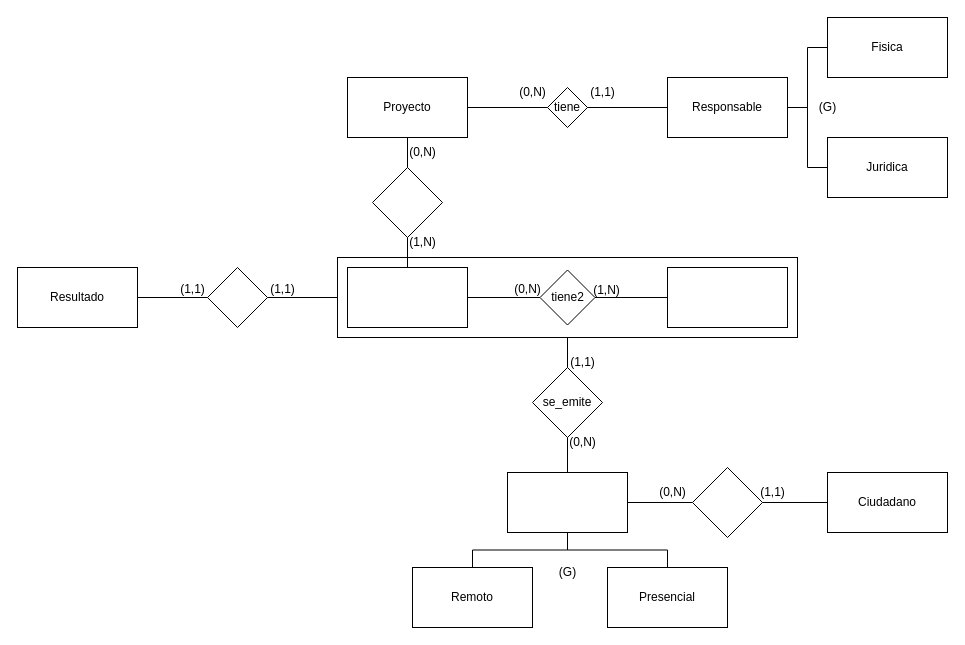
Some shapes in this 965 by 645 pixel diagram are drawn without their labels. Here are the shapes that lost their labels. From the top down, the centre of each, then its label:
At (407,202): "compuesto".
At (237,297): "cuenta".
At (407,297): "Actividad".
At (727,297): "Parametro".
At (567,502): "Voto".
At (727,502): "registra".
